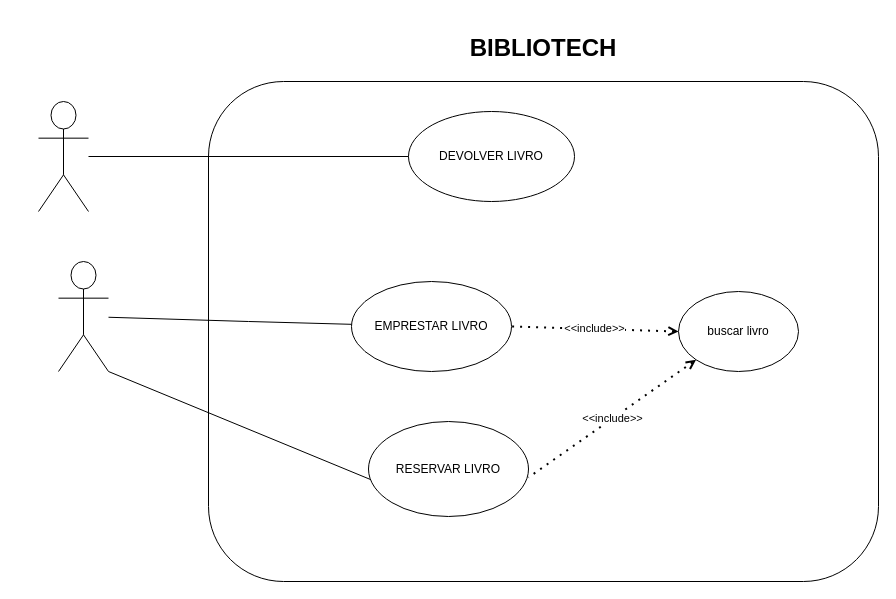
The diagram is 896 pixels wide and 599 high, and some of its shapes have lost their labels. Each missing label, with the centre of its shape:
"BIBLIOTECARIO" belongs at pixel 63 156.
"LEITOR" belongs at pixel 83 316.
